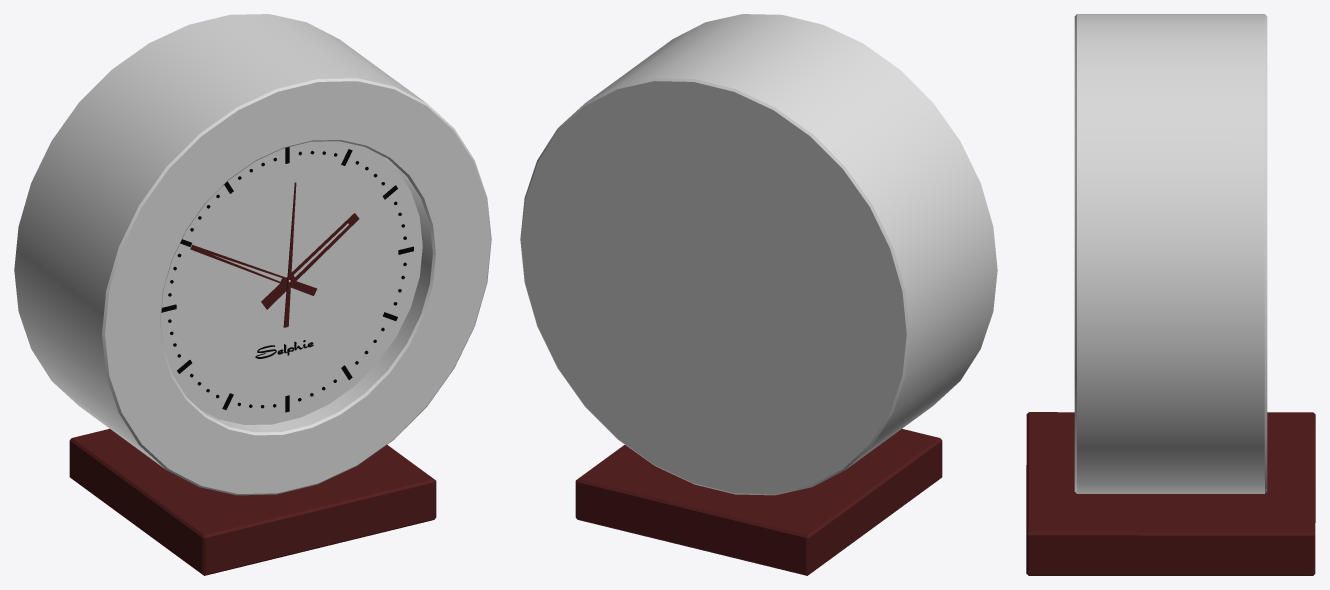
File: naozhong.fbx
The picture shows the model from 3 angles, left to right: view 1: azimuth 30°, elevation 25°; view 2: azimuth 150°, elevation 25°; view 3: azimuth 270°, elevation 25°; orthographic projection. The views are drawn at different scales.
Visible parts, largest first — view 1: obj_09, obj_01, obj_07, obj_03, obj_08, obj_04; view 2: obj_09, obj_01; view 3: obj_09, obj_01.
Boxes of the visible parts, bbox=[...] form: obj_09: bbox=[14, 14, 491, 495]; obj_01: bbox=[69, 428, 436, 575]; obj_07: bbox=[261, 213, 359, 309]; obj_03: bbox=[161, 147, 413, 412]; obj_08: bbox=[190, 245, 316, 295]; obj_04: bbox=[168, 151, 406, 408]; obj_09: bbox=[520, 14, 997, 495]; obj_01: bbox=[575, 429, 942, 575]; obj_09: bbox=[1074, 14, 1267, 493]; obj_01: bbox=[1026, 412, 1315, 575].
Bounding box in the file's own units: 16 × 17.56 × 9.61.
